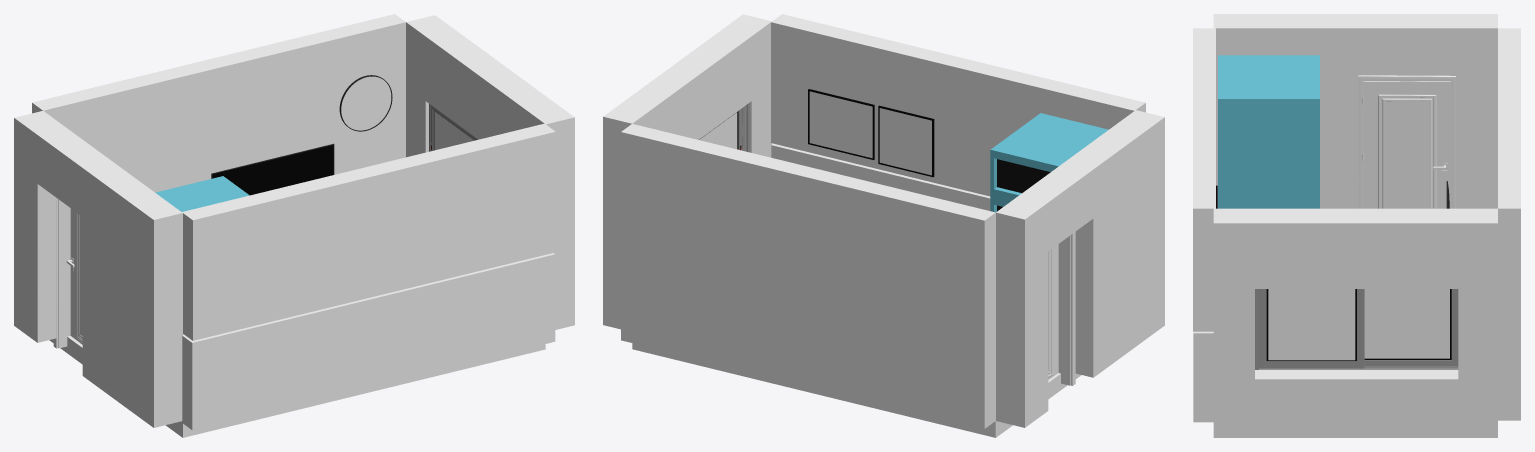
Rendered from kamer veltman.glb.
3 views of the same model, side by side, from view 1: azimuth 30°, elevation 25°; view 2: azimuth 150°, elevation 25°; view 3: azimuth 270°, elevation 25° (orthographic).
Visible parts, largest first — view 1: muren, muur wit 0.5, muur blauw, muur blauw 0.5, furni, conectors cover, vloer, Mirror Circle, kast, Sliding window; view 2: muur blauw, muren, muur wit 0.5, kast, furni, Frame.003, Frame.001, muur blauw 0.5, vloer, Sliding window; view 3: muren, Sliding window, kast, furni, muur blauw, muur wit 0.5, muur blauw 0.5, vloer.
Boxes of the visible parts, x1=… form: muren: x1=14, y1=15, x2=574, y2=427; muur wit 0.5: x1=182, y1=123, x2=555, y2=340; muur blauw: x1=32, y1=14, x2=405, y2=192; muur blauw 0.5: x1=181, y1=253, x2=555, y2=430; furni: x1=53, y1=198, x2=82, y2=348; conectors cover: x1=211, y1=143, x2=334, y2=195; vloer: x1=49, y1=336, x2=545, y2=437; Mirror Circle: x1=339, y1=75, x2=392, y2=131; kast: x1=155, y1=176, x2=249, y2=211; Sliding window: x1=429, y1=104, x2=477, y2=151; muur blauw: x1=621, y1=124, x2=995, y2=428; muren: x1=603, y1=14, x2=1164, y2=427; muur wit 0.5: x1=771, y1=14, x2=1145, y2=196; kast: x1=990, y1=113, x2=1108, y2=212; furni: x1=1048, y1=232, x2=1075, y2=385; Frame.003: x1=808, y1=89, x2=874, y2=159; Frame.001: x1=878, y1=105, x2=934, y2=177; muur blauw 0.5: x1=771, y1=143, x2=990, y2=210; vloer: x1=632, y1=343, x2=1081, y2=437; Sliding window: x1=699, y1=103, x2=749, y2=152; muren: x1=1213, y1=14, x2=1497, y2=434; Sliding window: x1=1255, y1=289, x2=1458, y2=369; kast: x1=1218, y1=55, x2=1319, y2=208; furni: x1=1358, y1=75, x2=1455, y2=208; muur blauw: x1=1498, y1=28, x2=1520, y2=420; muur wit 0.5: x1=1193, y1=28, x2=1215, y2=331; muur blauw 0.5: x1=1193, y1=331, x2=1213, y2=422; vloer: x1=1213, y1=435, x2=1497, y2=437.
Bounding box in the file's own units: 4.87 × 2.69 × 3.22.
